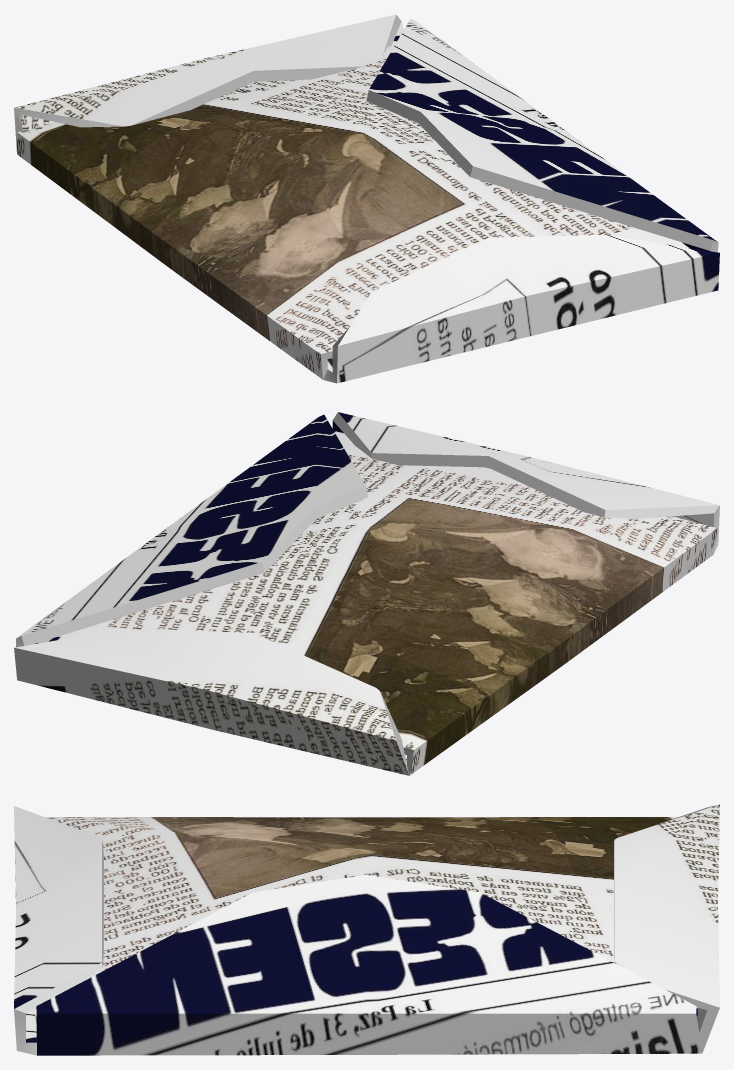
File: sobre de cafe.fbx
The picture shows the model from 3 angles, top to bottom: view 1: azimuth 30°, elevation 25°; view 2: azimuth 150°, elevation 25°; view 3: azimuth 270°, elevation 25°; orthographic projection. The views are drawn at different scales.
Parts seen in each view (by area): view 1: Plane; view 2: Plane; view 3: Plane.
Part boxes in pixels (x1,y1,x2,y2): Plane: [14, 14, 719, 383]; Plane: [14, 412, 719, 775]; Plane: [14, 804, 719, 1055].
Bounding box in the file's own units: 38.52 × 9.01 × 54.11.
Materials: 2 (1 with a texture image).
